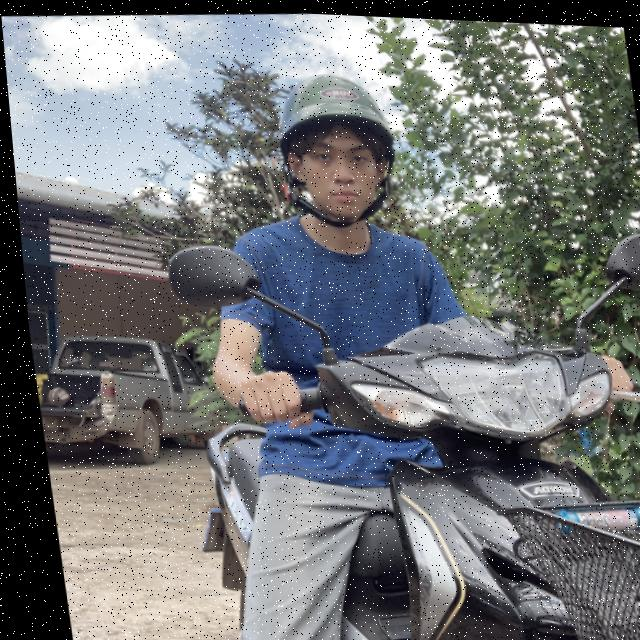helmet: (260, 61, 410, 234)
